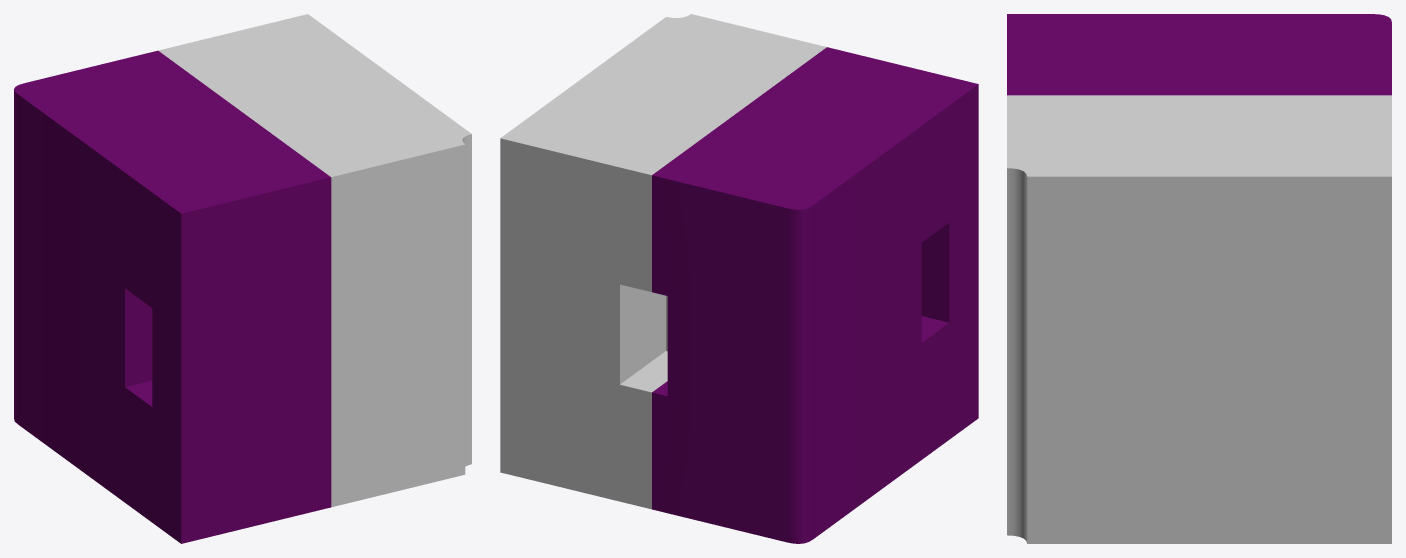
The model's file is Building_03_L_L.fbx.
3 views of the same model, side by side, from view 1: azimuth 30°, elevation 25°; view 2: azimuth 150°, elevation 25°; view 3: azimuth 270°, elevation 25° (orthographic). The views are drawn at different scales.
Parts seen in each view (by area): view 1: 3, 1, 4, 2; view 2: 4, 2, 3, 1; view 3: 2, 1, 3, 4.
Part boxes in pixels (x1,y1,x2,y2): 3: (94, 114, 331, 543); 1: (245, 77, 471, 507); 4: (14, 50, 244, 480); 2: (158, 14, 393, 113); 4: (652, 111, 891, 543); 2: (500, 74, 738, 509); 3: (740, 47, 978, 481); 1: (588, 14, 826, 110); 2: (1199, 95, 1391, 543); 1: (1007, 95, 1199, 543); 3: (1007, 14, 1199, 95); 4: (1199, 14, 1391, 95).
Size of the model in its own units: 190 by 200 by 190.
